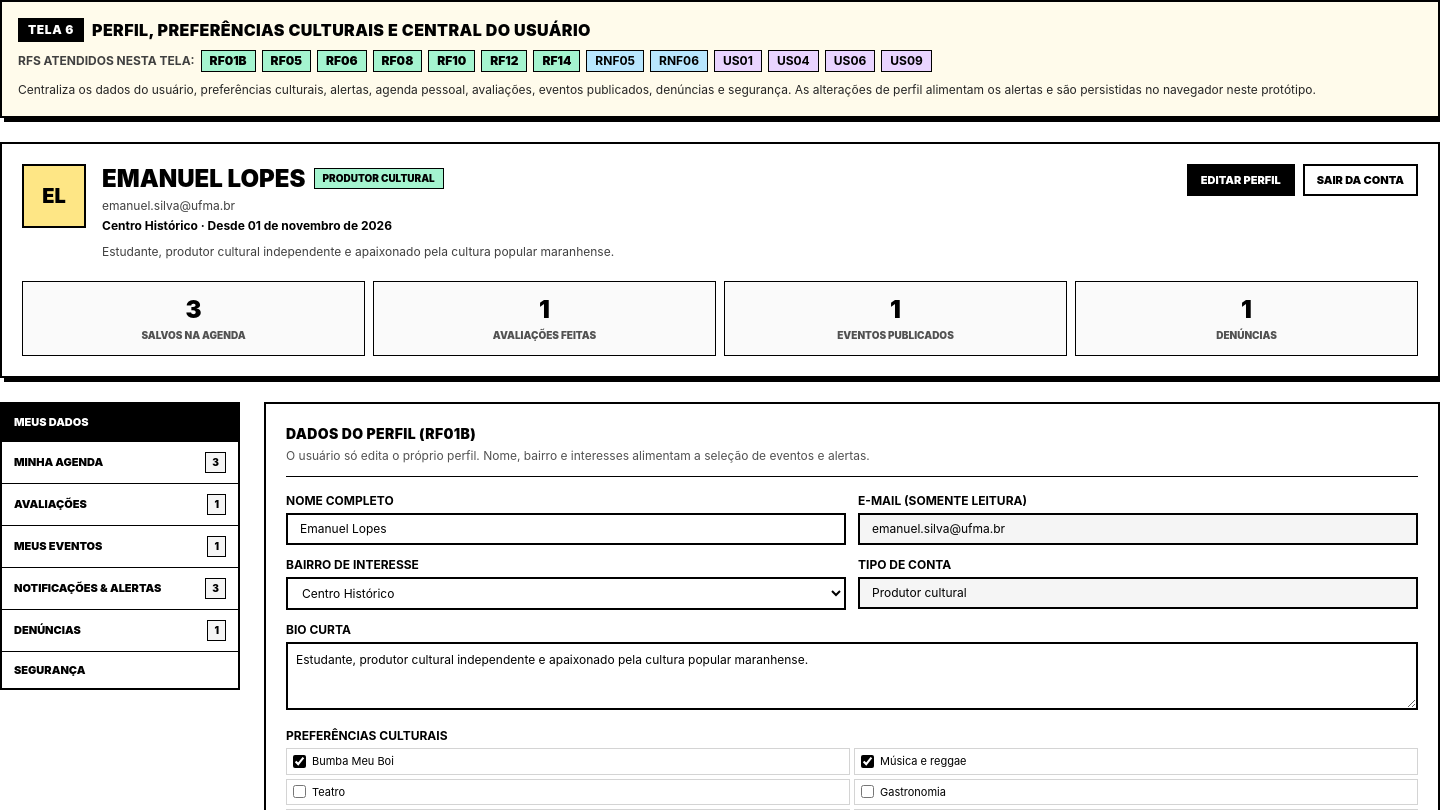
Test: ProfilePage › lista os eventos publicados pelo usuário
This screenshot has width=1440, height=810.
Click the tab "Meus eventos 1".
click(120, 546)  # box [2, 526, 238, 568]
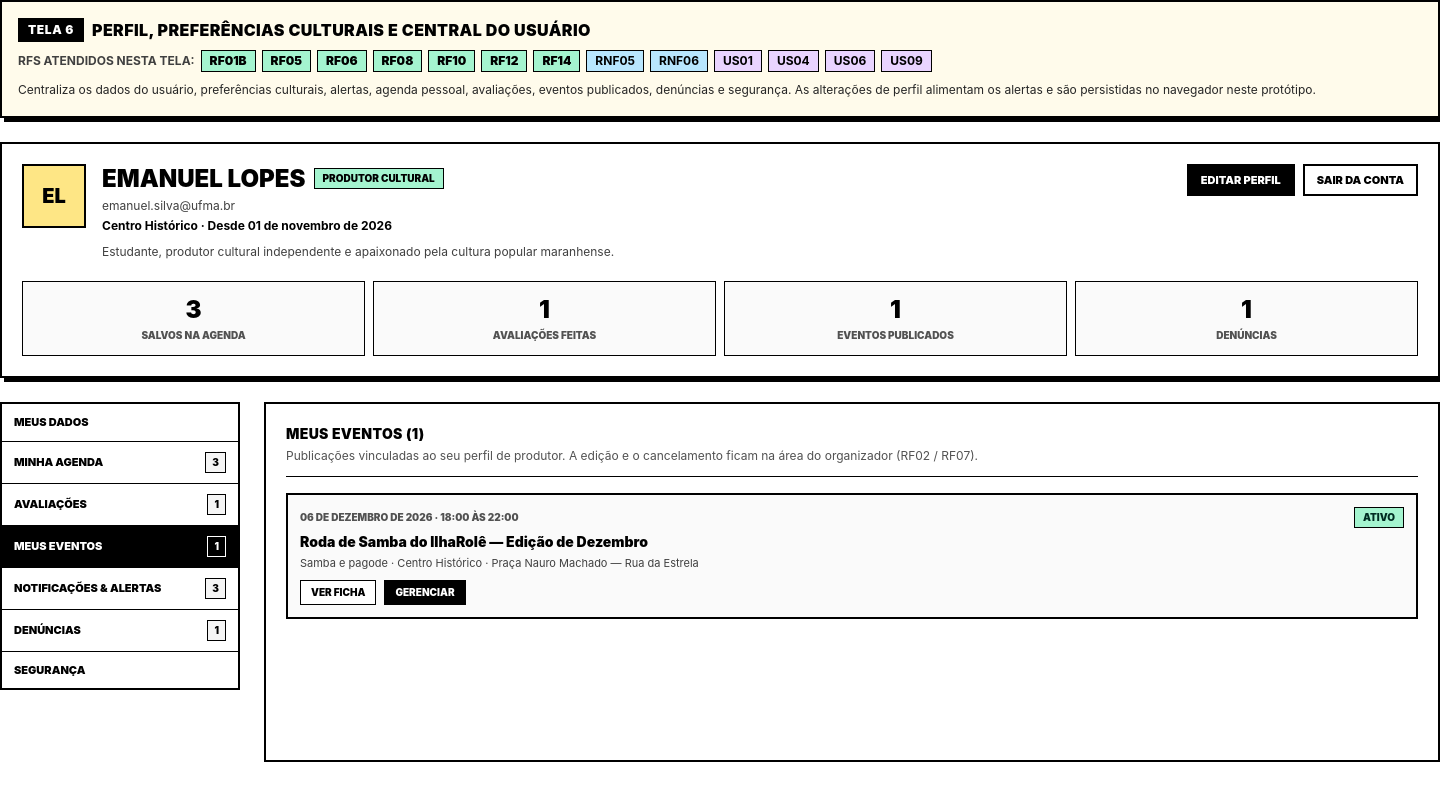
Result: the link "Roda de Samba do IlhaRolê — Edição de Dezembro" is shown at [300, 533, 648, 550]
